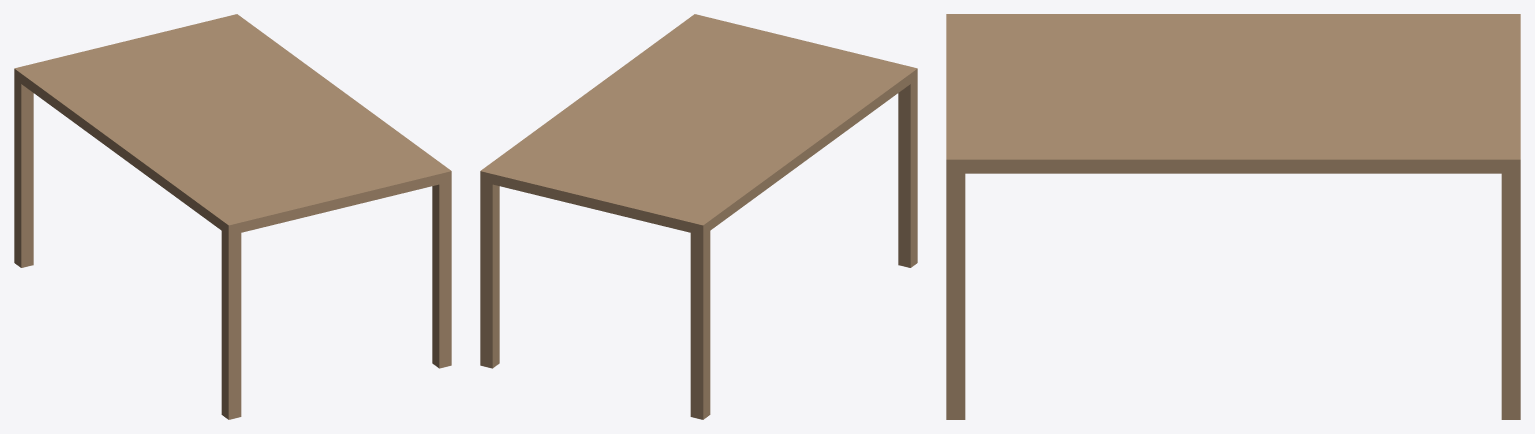
Rendered from dining-table-1500.glb.
3 renders of one model, left to right at view 1: azimuth 30°, elevation 25°; view 2: azimuth 150°, elevation 25°; view 3: azimuth 270°, elevation 25°, orthographic. The views are drawn at different scales.
Parts seen in each view (by area): view 1: dining-table-1500; view 2: dining-table-1500; view 3: dining-table-1500.
Part boxes in pixels (bbox=[...]): dining-table-1500: bbox=[14, 14, 451, 419]; dining-table-1500: bbox=[480, 14, 917, 419]; dining-table-1500: bbox=[946, 14, 1520, 419].
Bounding box in the file's own units: 0.9 × 0.75 × 1.5.
